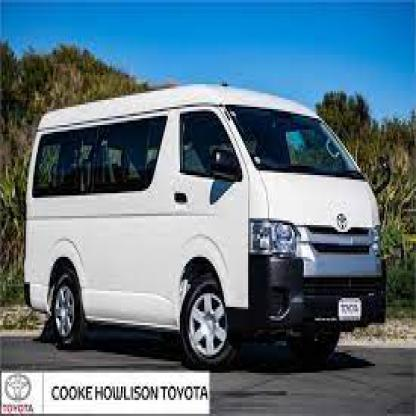van: (15, 73, 389, 364)
